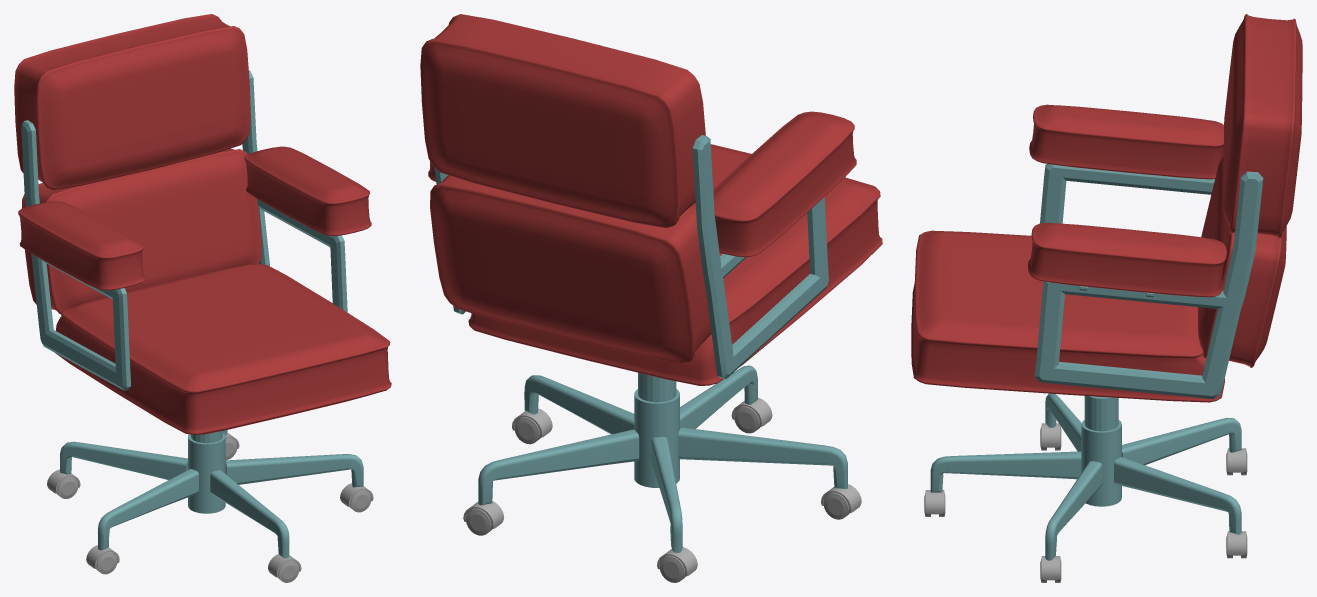
File: SR_Chair_LOW.fbx
3 renders of one model, left to right at view 1: azimuth 30°, elevation 25°; view 2: azimuth 150°, elevation 25°; view 3: azimuth 270°, elevation 25°, orthographic. The views are drawn at different scales.
Parts seen in each view (by area): view 1: Cushion_Bottom, Cushion_Rest_2, Cushion_Rest_1, Cushion_Arm_2, Railing_Arm_2, Cushion_Arm_1, Claw_2, Claw_4, Claw_5, Main_Leg, Claw_1, Railing_Arm_1; view 2: Cushion_Rest_2, Cushion_Rest_1, Cushion_Bottom, Cushion_Arm_2, Railing_Arm_2, Claw_5, Claw_3, Main_Leg, Claw_2, Claw_1, Claw_4; view 3: Cushion_Bottom, Cushion_Arm_2, Railing_Arm_2, Cushion_Rest_2, Cushion_Arm_1, Cushion_Rest_1, Railing_Arm_1, Claw_1, Main_Leg, Claw_3, Claw_4, Claw_2 (+1 smaller).
Boxes of the visible parts, box(x1,y1,x2,y2) form: Cushion_Bottom: box(54, 264, 391, 434); Cushion_Rest_2: box(14, 14, 250, 190); Cushion_Rest_1: box(22, 148, 261, 314); Cushion_Arm_2: box(18, 146, 371, 290); Railing_Arm_2: box(21, 72, 347, 390); Cushion_Arm_1: box(245, 147, 371, 235); Claw_2: box(225, 454, 363, 487); Claw_4: box(60, 441, 187, 479); Claw_5: box(97, 469, 198, 550); Main_Leg: box(188, 431, 225, 513); Claw_1: box(210, 470, 289, 558); Railing_Arm_1: box(248, 70, 347, 312); Cushion_Rest_2: box(420, 14, 705, 228); Cushion_Rest_1: box(430, 175, 711, 364); Cushion_Bottom: box(468, 144, 882, 385); Cushion_Arm_2: box(428, 111, 856, 257); Railing_Arm_2: box(434, 135, 828, 378); Claw_5: box(678, 427, 847, 488); Claw_3: box(478, 429, 639, 505); Main_Leg: box(634, 372, 679, 487); Claw_2: box(524, 375, 634, 434); Claw_1: box(680, 365, 757, 428); Claw_4: box(651, 437, 682, 552); Cushion_Bottom: box(911, 230, 1224, 402); Cushion_Arm_2: box(1028, 104, 1226, 296); Railing_Arm_2: box(1035, 163, 1263, 399); Cushion_Rest_2: box(1223, 14, 1302, 238); Cushion_Arm_1: box(1028, 223, 1223, 297); Cushion_Rest_1: box(1198, 156, 1286, 367); Railing_Arm_1: box(1034, 171, 1262, 398); Claw_1: box(930, 451, 1081, 492); Main_Leg: box(1081, 396, 1121, 506); Claw_3: box(1114, 457, 1241, 534); Claw_4: box(1122, 417, 1241, 464); Claw_2: box(1045, 461, 1102, 560).
Bounding box in the file's own units: 1.95 × 2.85 × 2.21.
